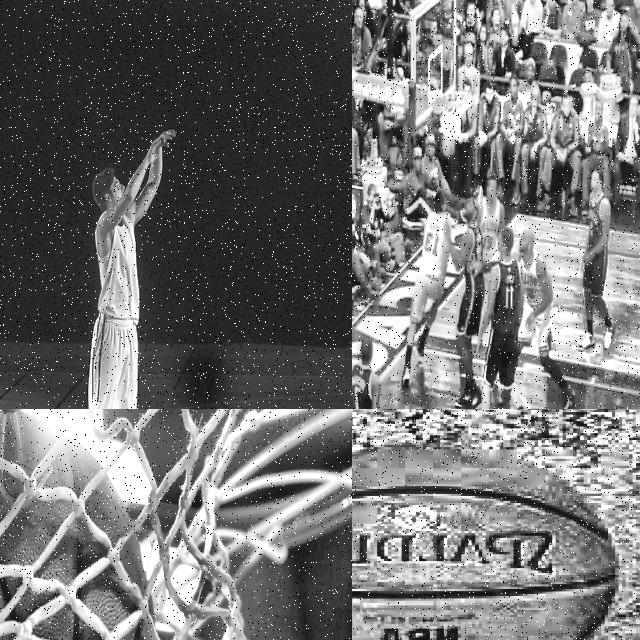Basketball: (352, 442, 615, 640), (0, 412, 151, 640), (441, 133, 456, 158)
